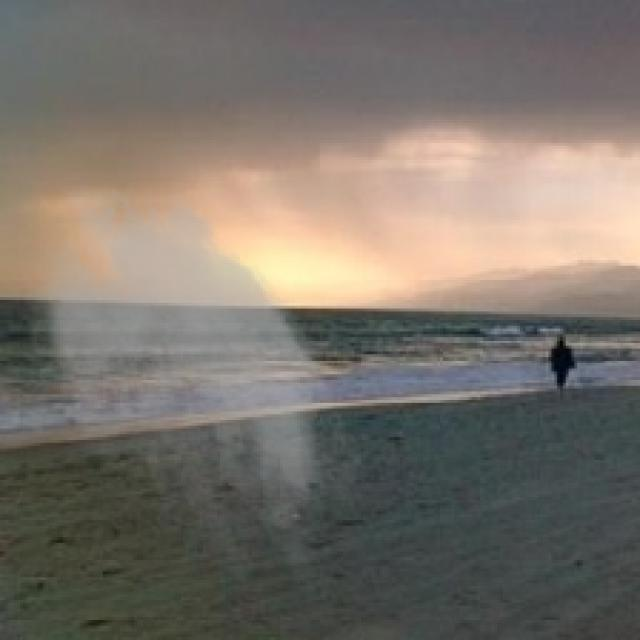Smoke: (9, 172, 368, 588)
